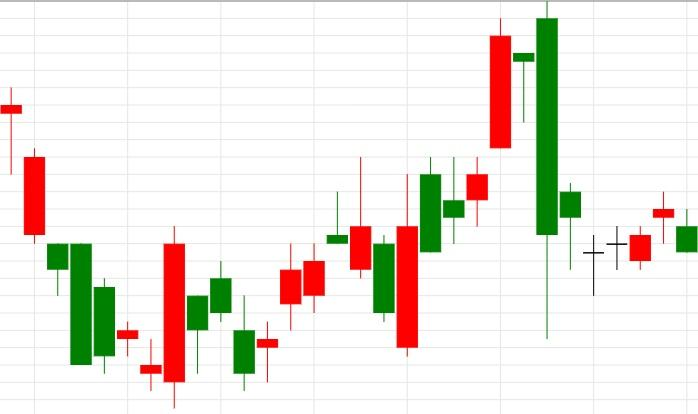bullish_engulfing_rise: (327, 156, 419, 357)
